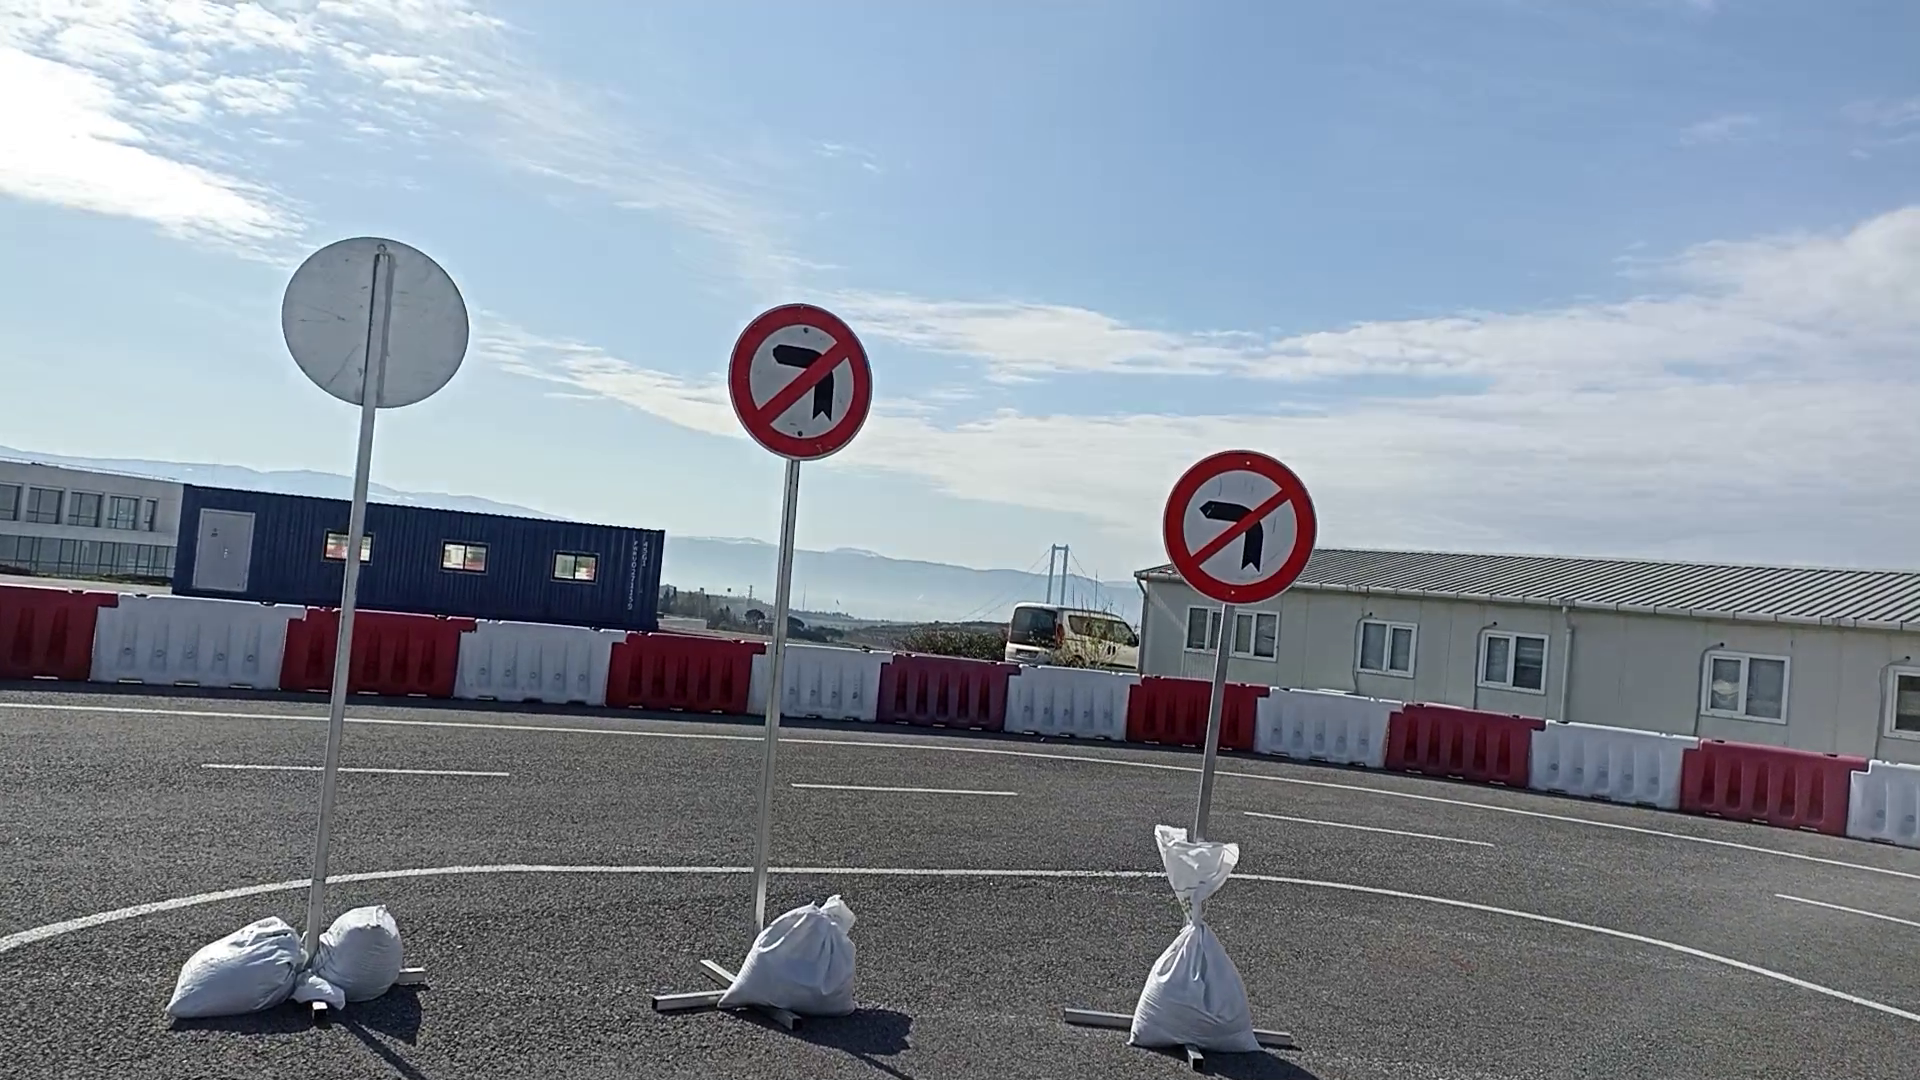noleft: (1160, 448, 1320, 609), (727, 299, 876, 462)
